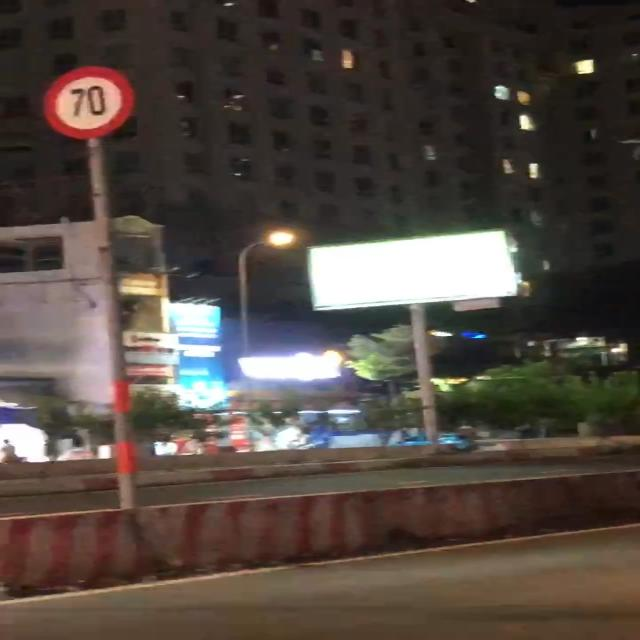Bien bao toc do toi da cho phep: (34, 58, 154, 144)
